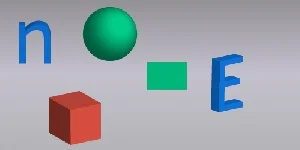大写字母: (208, 51, 248, 113)
小写字母: (16, 19, 53, 66)
正方体: (45, 90, 104, 146)
球体: (80, 5, 140, 63)
矩形: (145, 60, 190, 93)
